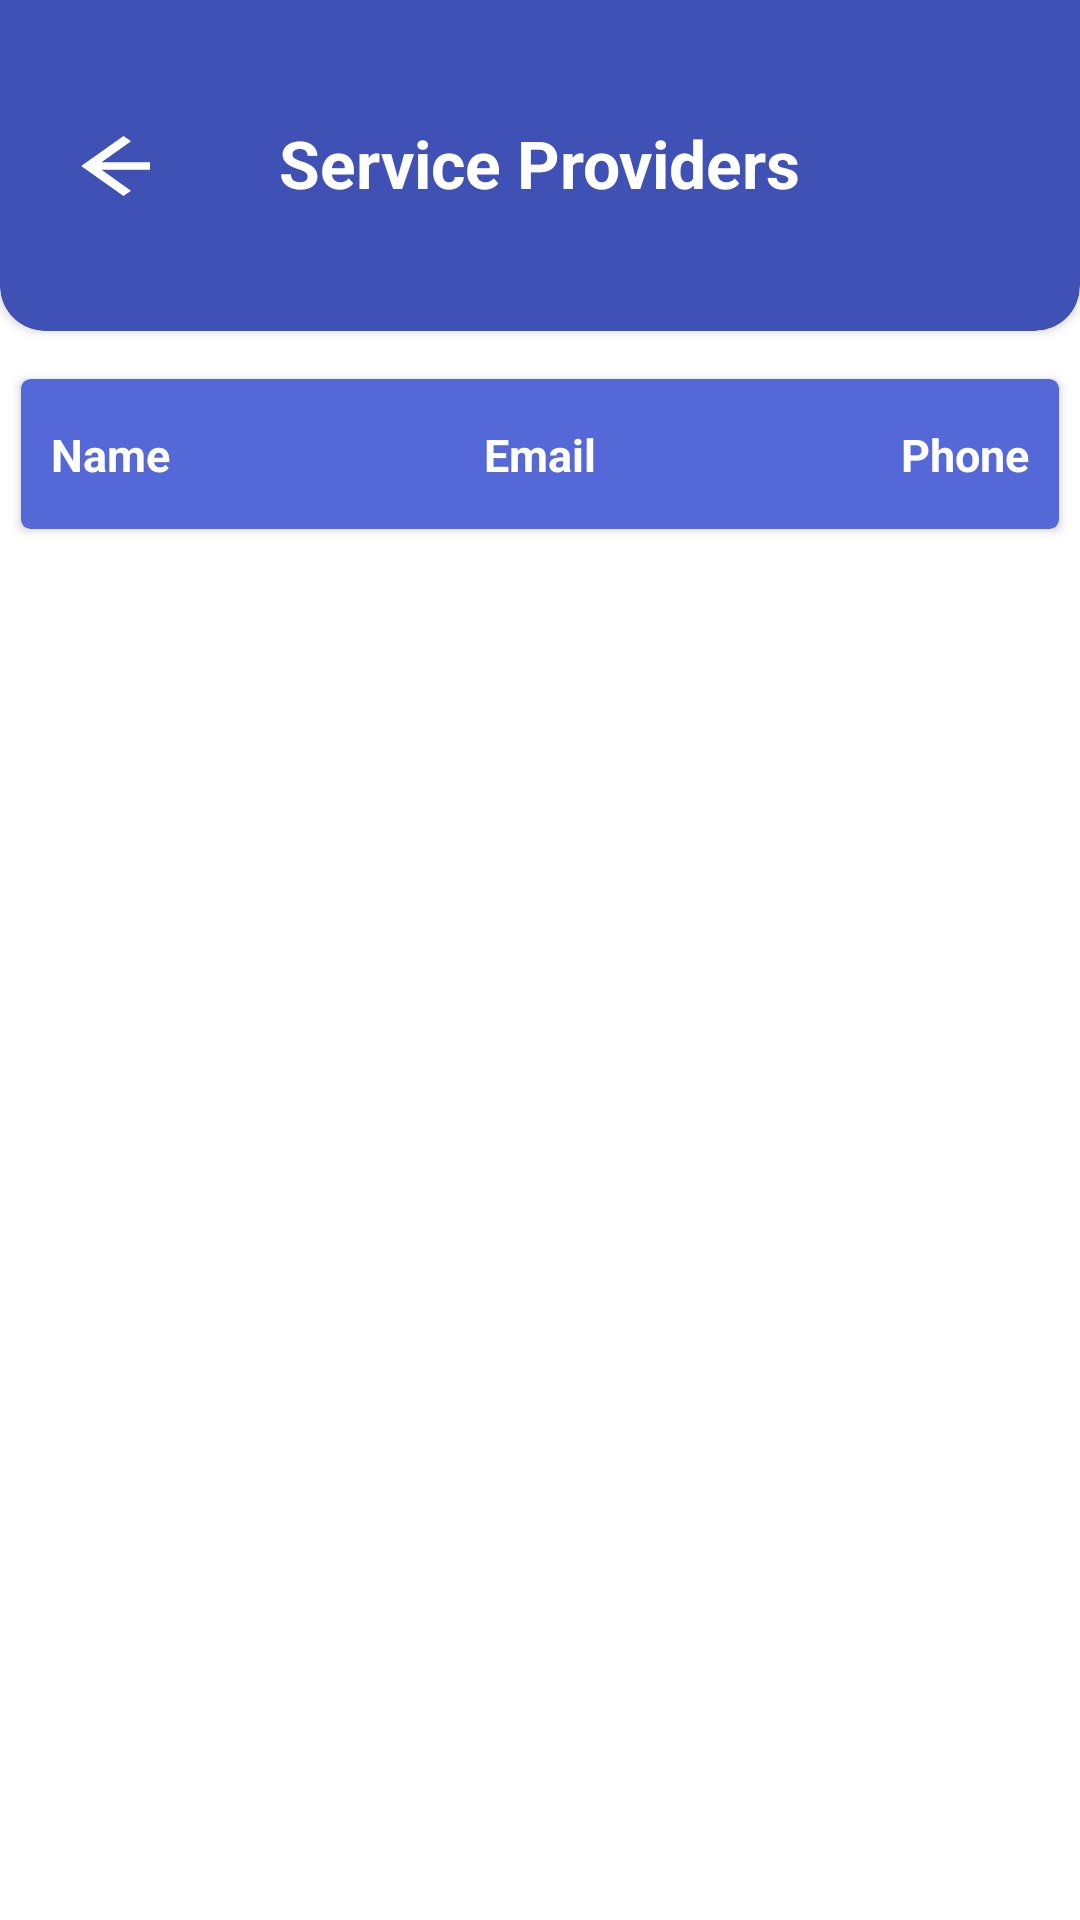

Point at icon controls on the screen. Image size 1080 × 1920, points as [x,y].
back: [115,166]
